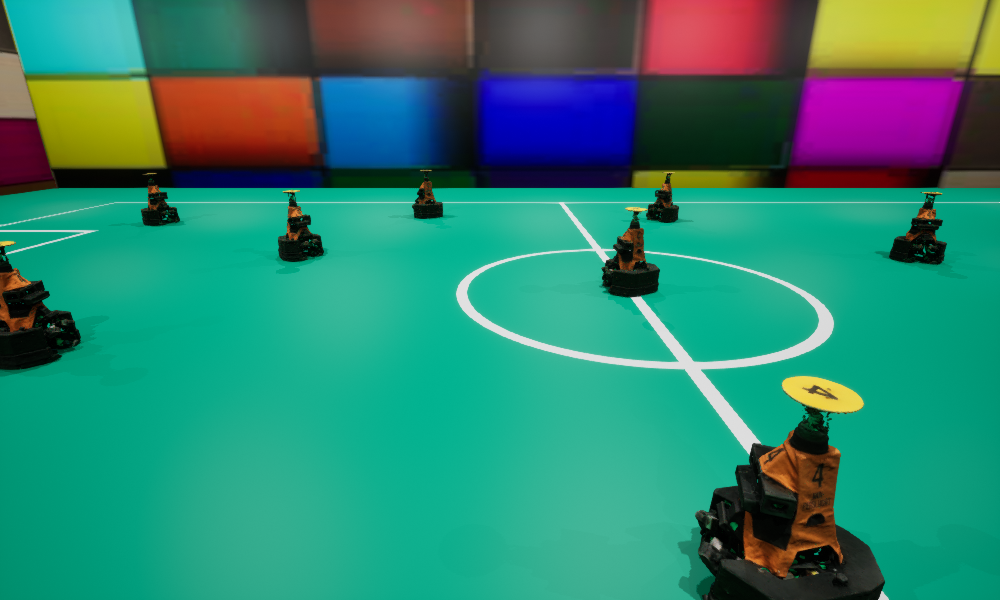o: (695, 376, 884, 599), (0, 241, 80, 369), (601, 207, 659, 296), (889, 192, 946, 263), (278, 190, 323, 261), (141, 173, 179, 225), (646, 172, 678, 221), (412, 170, 442, 218)
